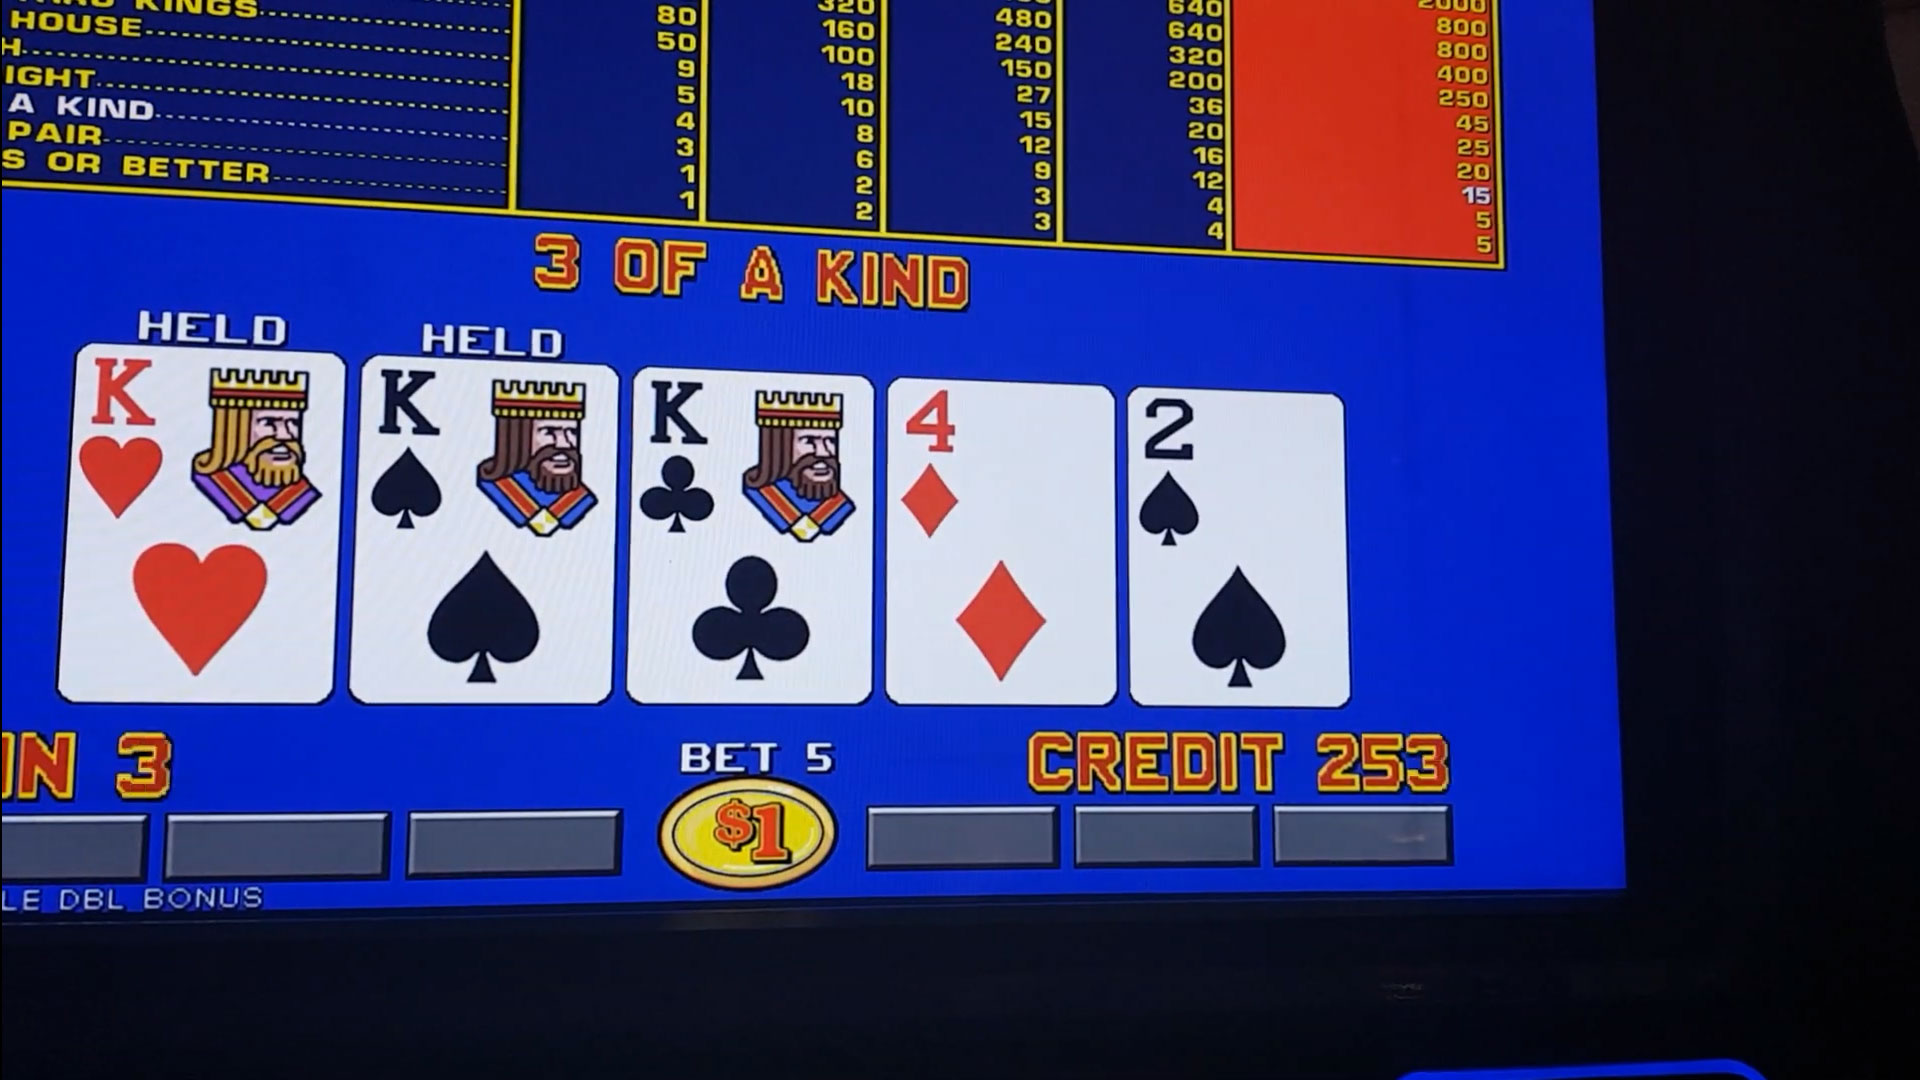CK: (634, 378, 872, 549)
D4: (891, 388, 1112, 553)
HK: (80, 353, 340, 530)
S2: (1126, 396, 1340, 551)
SK: (368, 365, 612, 541)
